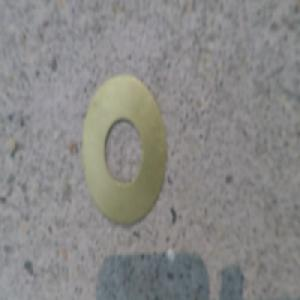Washer: (80, 76, 165, 219)
